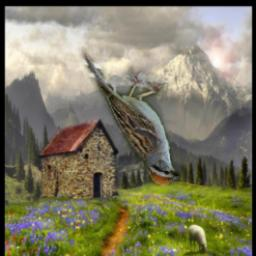Sparrow: (79, 47, 180, 186)
